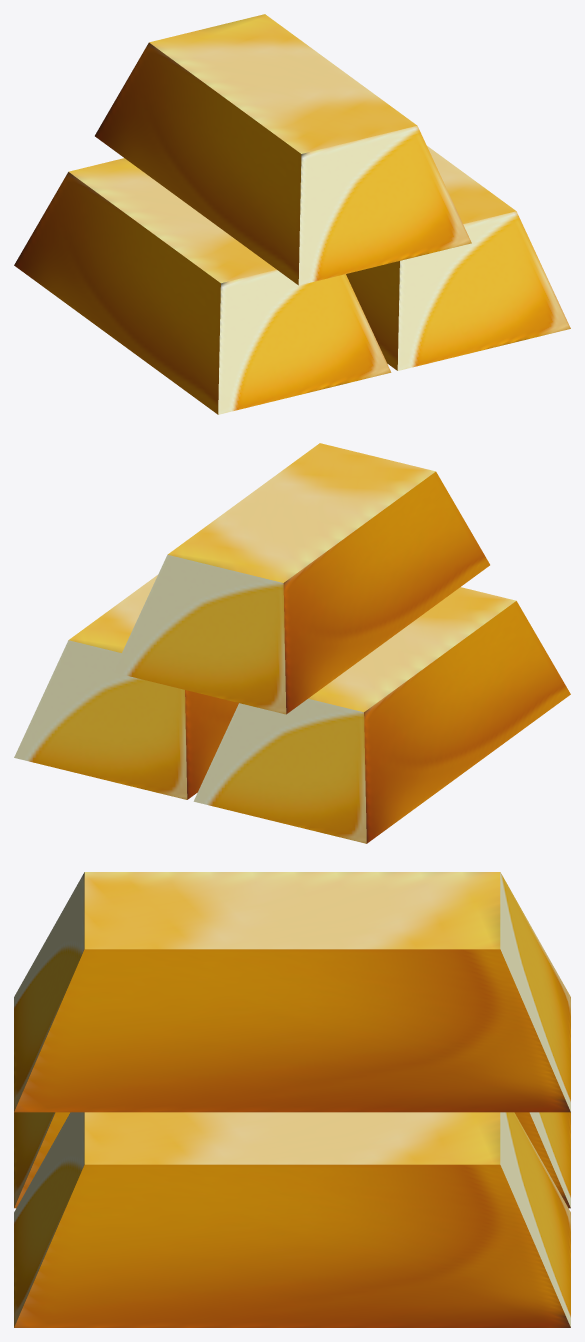
The model's file is Gold.fbx.
3 views of the same model, one above another, from view 1: azimuth 30°, elevation 25°; view 2: azimuth 150°, elevation 25°; view 3: azimuth 270°, elevation 25° (orthographic). The views are drawn at different scales.
Parts seen in each view (by area): view 1: Gold; view 2: Gold; view 3: Gold.
Boxes of the visible parts, x1,y1,x2,y2 form: Gold: [14, 14, 570, 414]; Gold: [14, 443, 570, 843]; Gold: [14, 872, 570, 1327].
Size of the model in its own units: 102 by 59.54 by 102.
